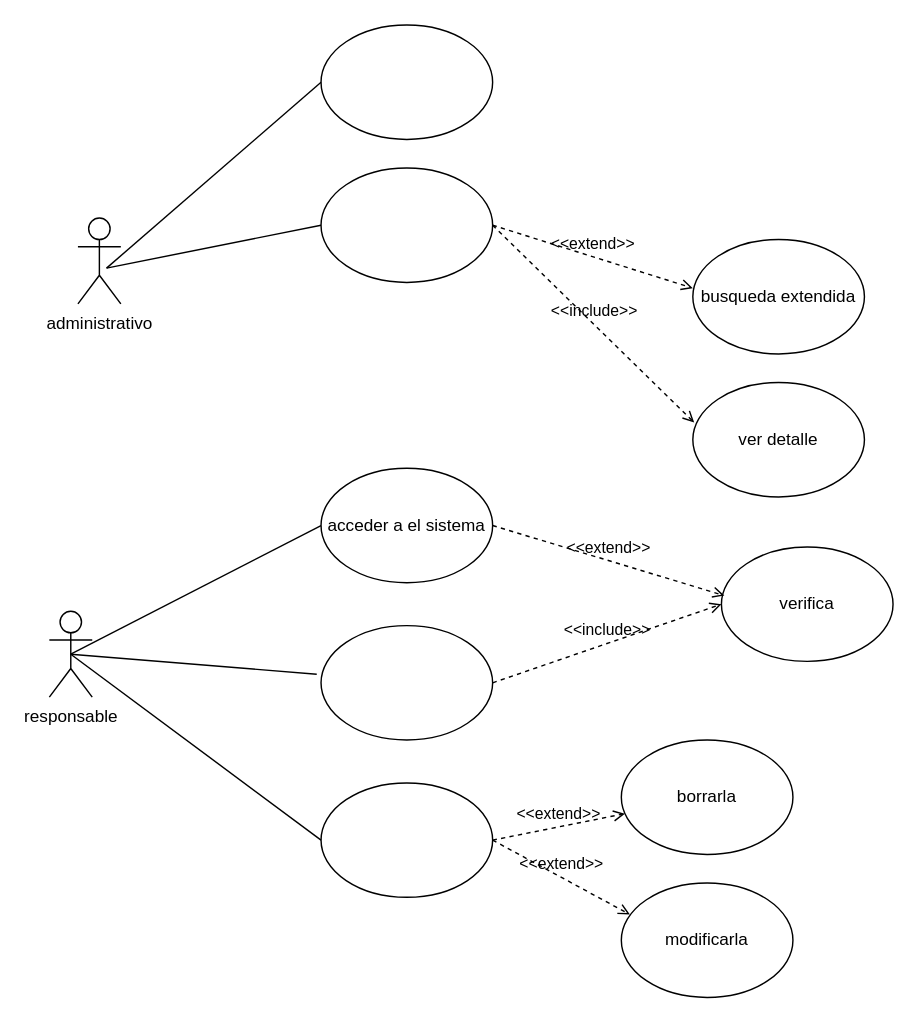
Image size: 918x1022. Some labels were removed from this diagram. The shapes that lost their labels are listed below. From the top down, each one's centre as x and y in pixels, then its label:
the point at 406,81: suscribirse al boletin
the point at 406,224: buscar boletin por fecha
the point at 406,682: publicar circular
the point at 406,839: buscar cirulares
